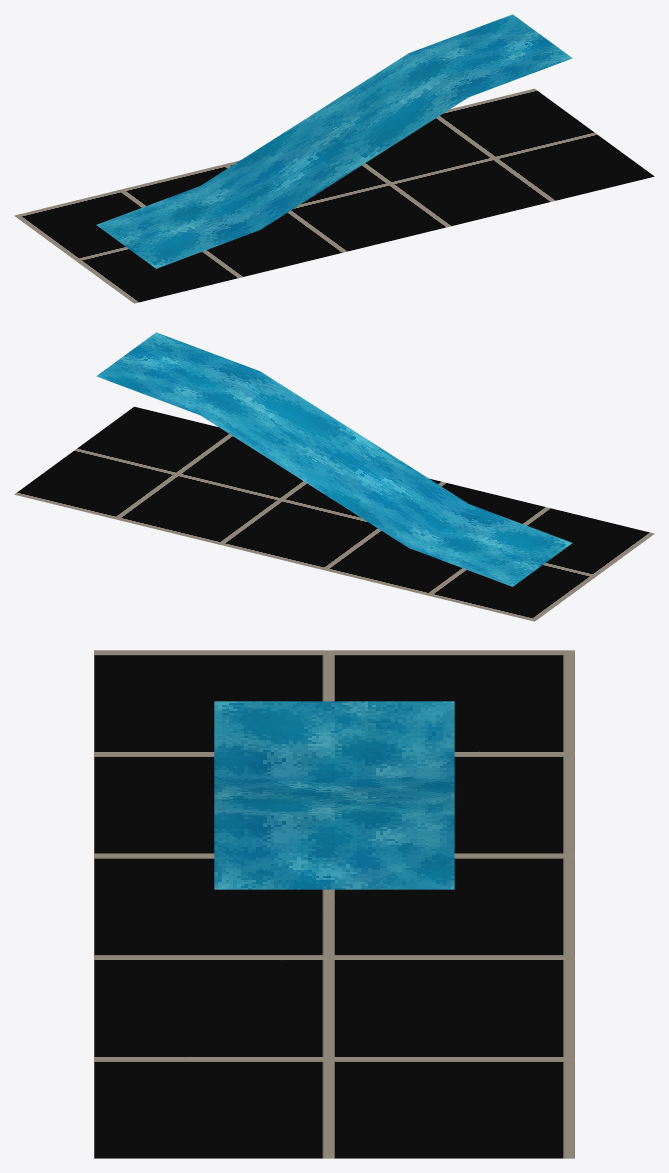
File: Terrain_Water_River_Incline_Gentle_1x4.glb
3 renders of one model, top to bottom at view 1: azimuth 30°, elevation 25°; view 2: azimuth 150°, elevation 25°; view 3: azimuth 270°, elevation 25°, orthographic. The views are drawn at different scales.
Visible parts, largest first — view 1: Floor, Terrain_Water_River_Incline_Gentle_1x4; view 2: Floor, Terrain_Water_River_Incline_Gentle_1x4; view 3: Floor, Terrain_Water_River_Incline_Gentle_1x4.
Part boxes in pixels (x1,y1,x2,y2): Floor: [14, 88, 654, 303]; Terrain_Water_River_Incline_Gentle_1x4: [96, 14, 572, 268]; Floor: [14, 406, 654, 621]; Terrain_Water_River_Incline_Gentle_1x4: [96, 332, 572, 586]; Floor: [94, 650, 574, 1158]; Terrain_Water_River_Incline_Gentle_1x4: [214, 701, 454, 889].
Bounding box in the file's own units: 500 × 100 × 200.
Materials: 2 (2 with a texture image).
